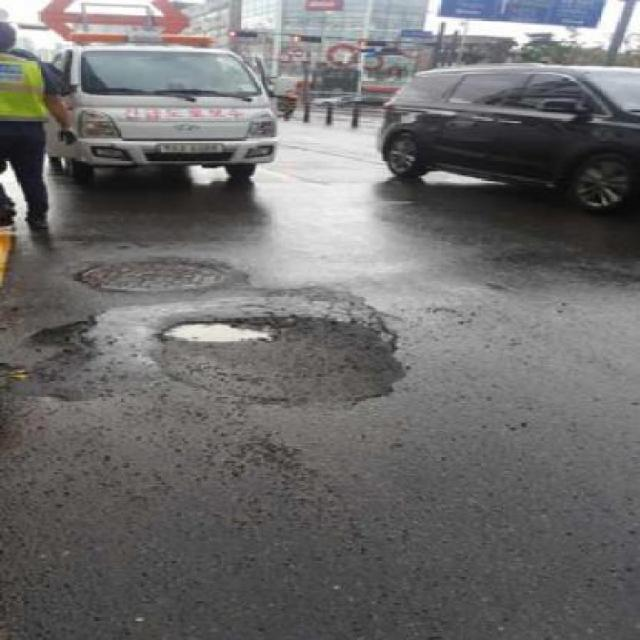Pothole: (66, 254, 243, 297), (159, 312, 276, 351)
